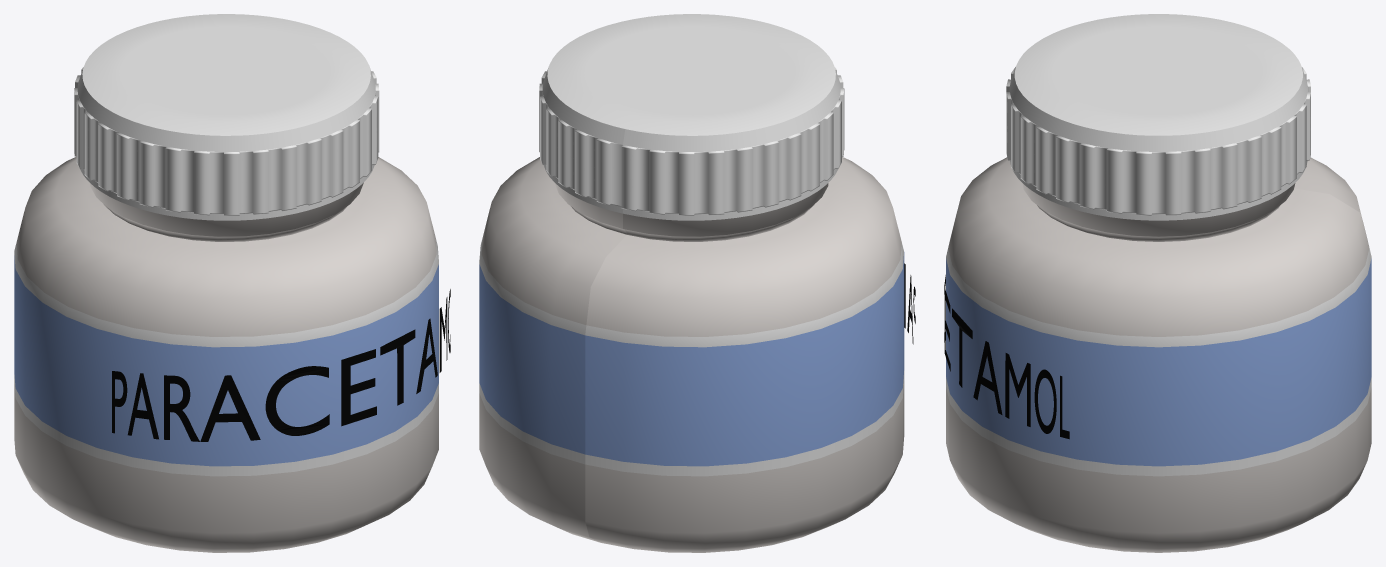
Rendered from botol_Paracetamol 1.fbx.
3 renders of one model, left to right at view 1: azimuth 30°, elevation 25°; view 2: azimuth 150°, elevation 25°; view 3: azimuth 270°, elevation 25°, orthographic.
Visible parts, largest first — view 1: pill_bottle, pill_lid, Text; view 2: pill_bottle, pill_lid; view 3: pill_bottle, pill_lid, Text.
Boxes of the visible parts, <box> form: pill_bottle: <box>14,156,438,552</box>; pill_lid: <box>74,14,379,220</box>; Text: <box>112,289,450,441</box>; pill_bottle: <box>479,157,904,552</box>; pill_lid: <box>539,14,844,220</box>; pill_bottle: <box>946,157,1371,552</box>; pill_lid: <box>1006,14,1310,220</box>; Text: <box>944,275,1069,439</box>.
Size of the model in its own units: 171 by 182 by 172.
